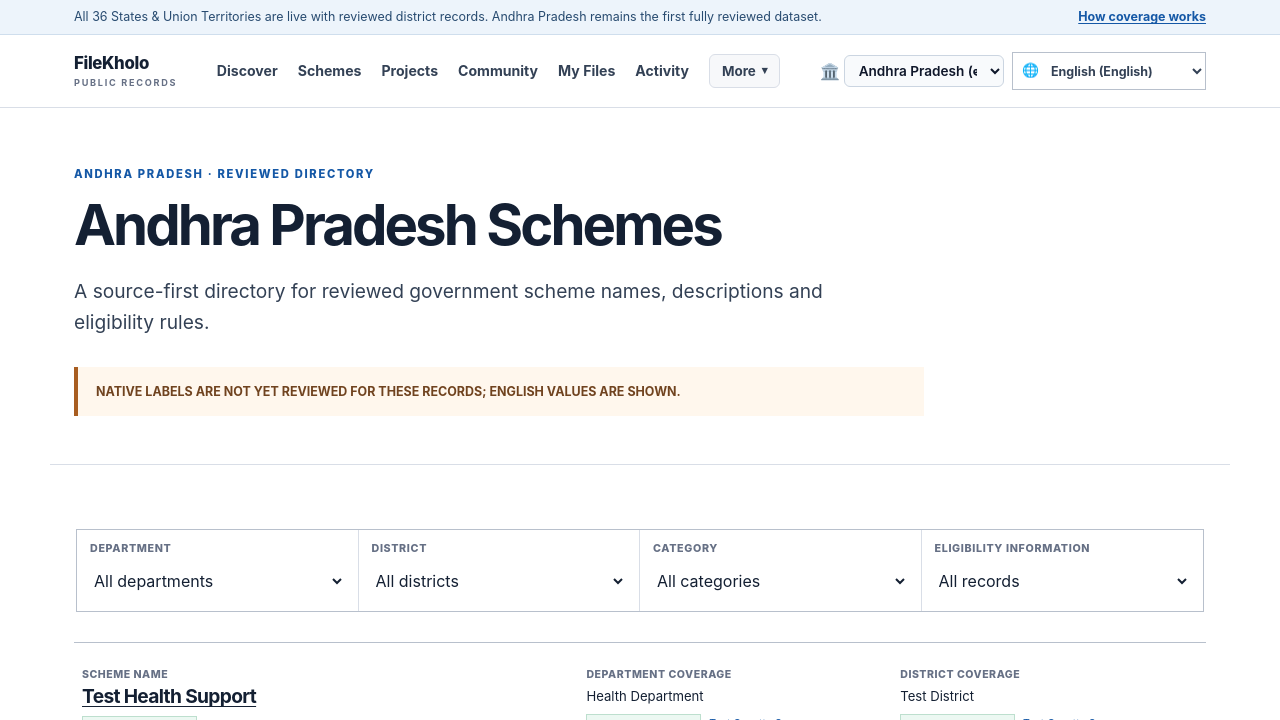
Test: SchemesDirectory › renders bilingual claims with visible provenance and filters natively
Expected: the heading "Test Health Support" is shown, left=82, top=684, right=256, bottom=708
Select "Test District" in the dropdown labelled "District" at (499, 581), box left=372, top=562, right=626, bottom=600
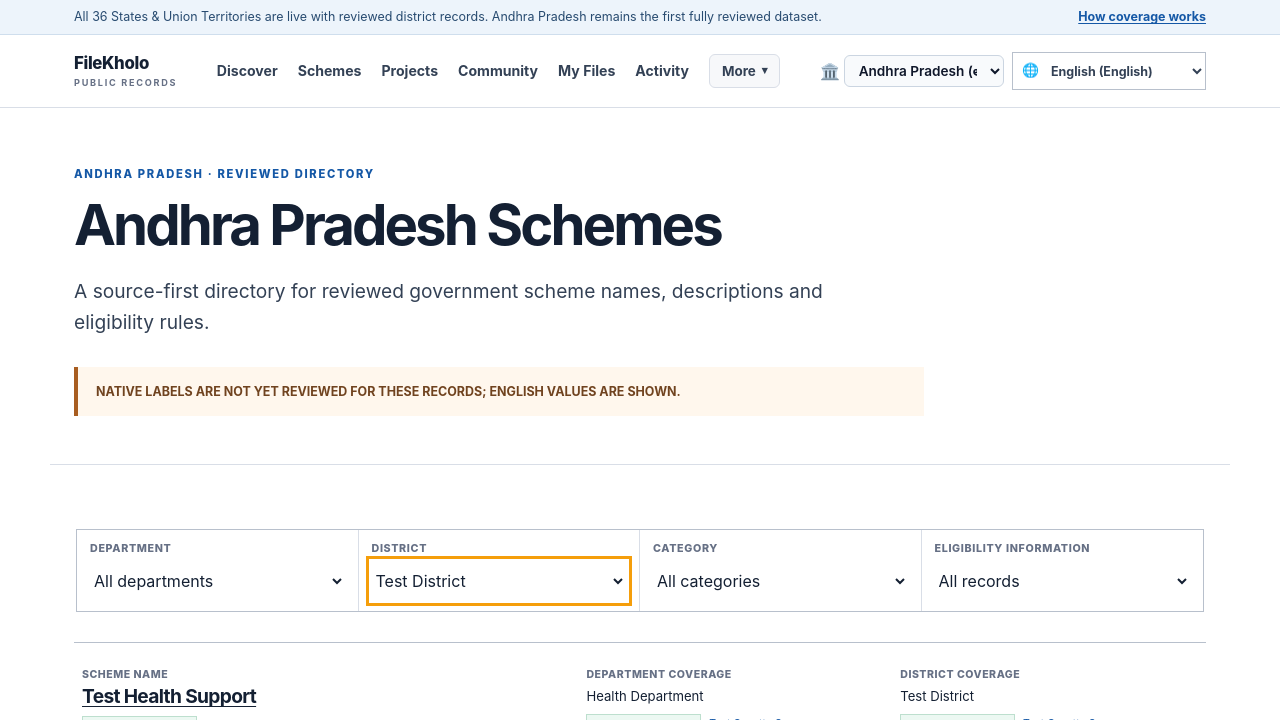
Expected: the heading "Test Health Support" is shown, left=82, top=684, right=256, bottom=708
Select "Criteria unavailable" in the dropdown labelled "Eligibility information" at (1062, 581), box left=934, top=562, right=1190, bottom=600
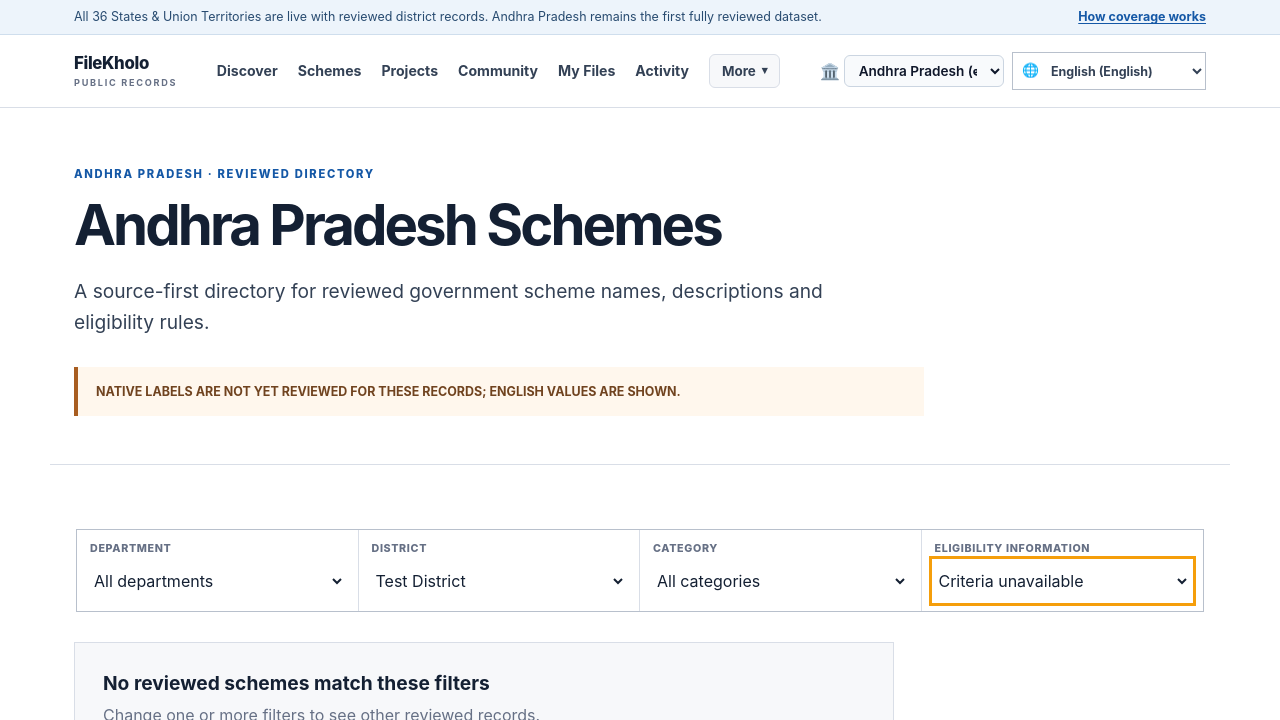
Result: the heading "No reviewed schemes match these filters" is shown at left=103, top=671, right=490, bottom=695
Select "తెలుగు (Telugu)" in the dropdown named "Select language" at (1122, 71), box left=1039, top=53, right=1205, bottom=89
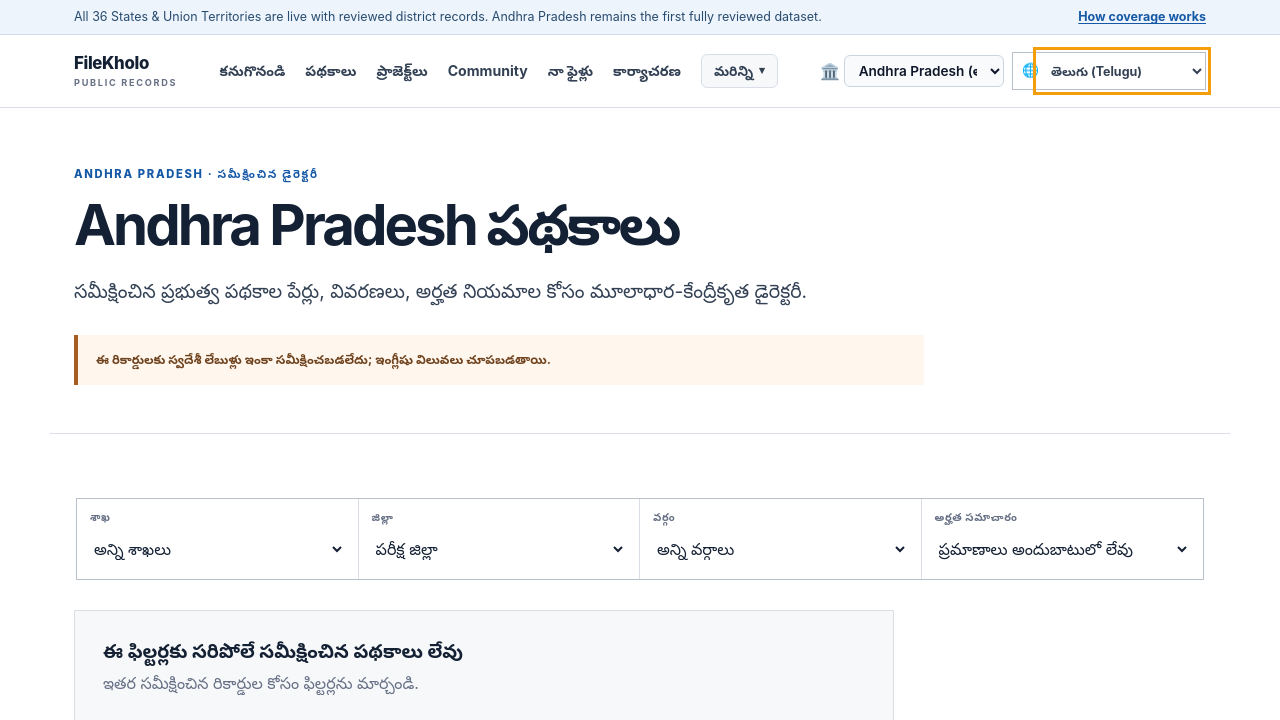
Result: the heading "ఈ ఫిల్టర్లకు సరిపోలే సమీక్షించిన పథకాలు లేవు" is shown at left=103, top=639, right=463, bottom=663
